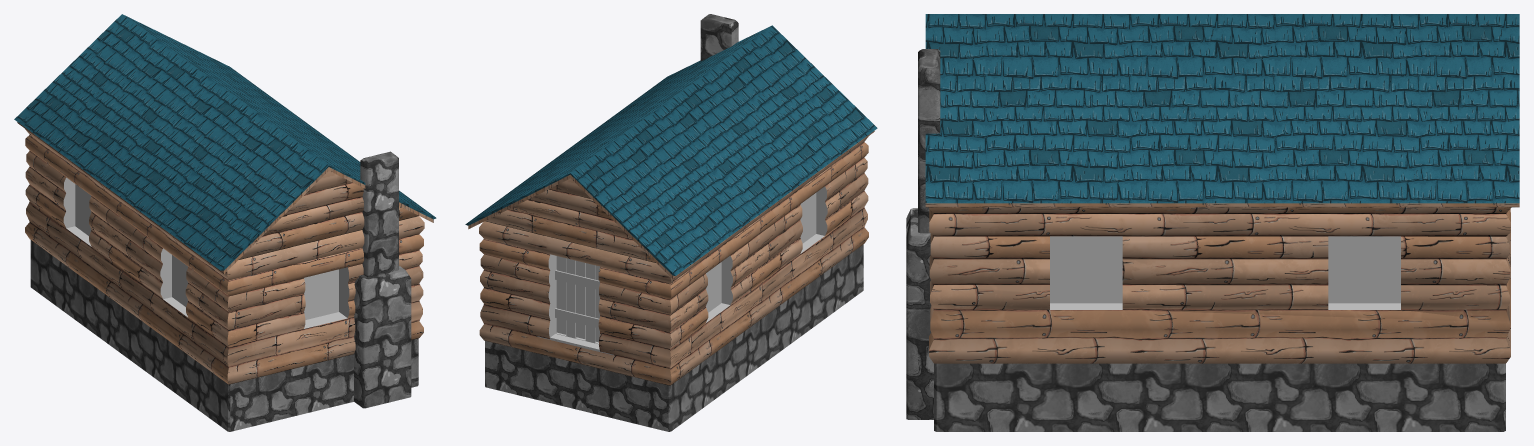
Rendered from LogMill01.fbx.
3 renders of one model, left to right at view 1: azimuth 30°, elevation 25°; view 2: azimuth 150°, elevation 25°; view 3: azimuth 270°, elevation 25°, orthographic. The views are drawn at different scales.
Parts seen in each view (by area): view 1: LogMill01; view 2: LogMill01; view 3: LogMill01.
Boxes of the visible parts, x1,y1,x2,y2 form: LogMill01: (14,14,436,431); LogMill01: (465,14,877,431); LogMill01: (906,14,1519,431).
Size of the model in its own units: 739 by 803 by 1266.
